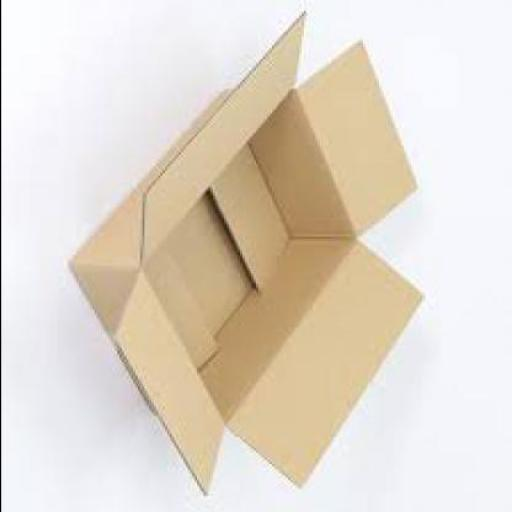cardboard: (73, 7, 428, 494)
